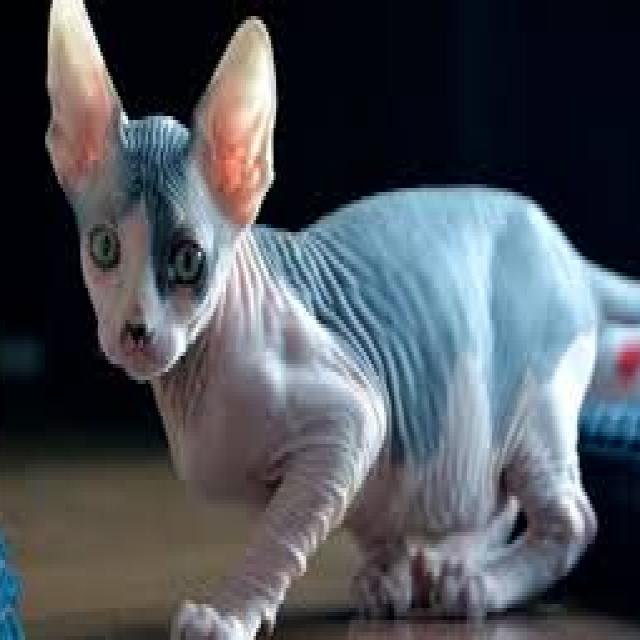Sphynx: (42, 0, 640, 640)
